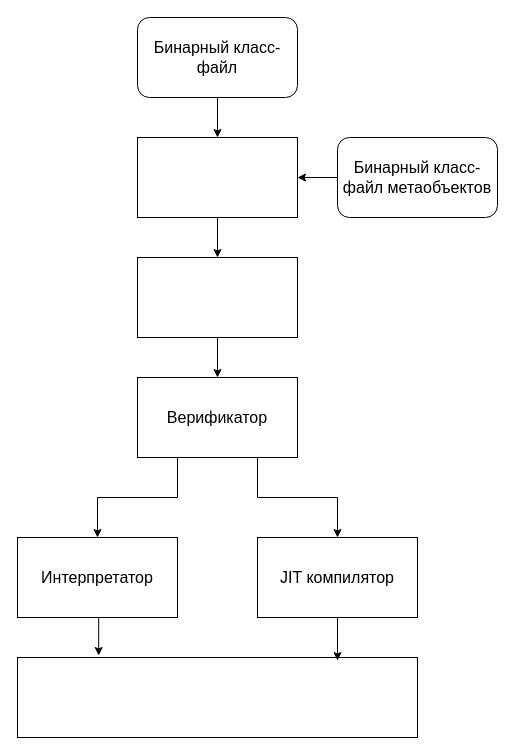
Some shapes in this 515 by 755 pixel diagram are drawn without their labels. The shapes that lost their labels are listed below. From the top down, each one's box as (x1, y1, x2, y2) in pixels, then its label:
(136, 136, 298, 218): Загрузчик классов
(136, 256, 298, 338): Kava
(16, 656, 418, 738): Рантайм
